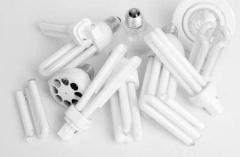lightbulb: (36, 1, 234, 147), (37, 15, 121, 79), (171, 0, 235, 54), (48, 64, 94, 108)
